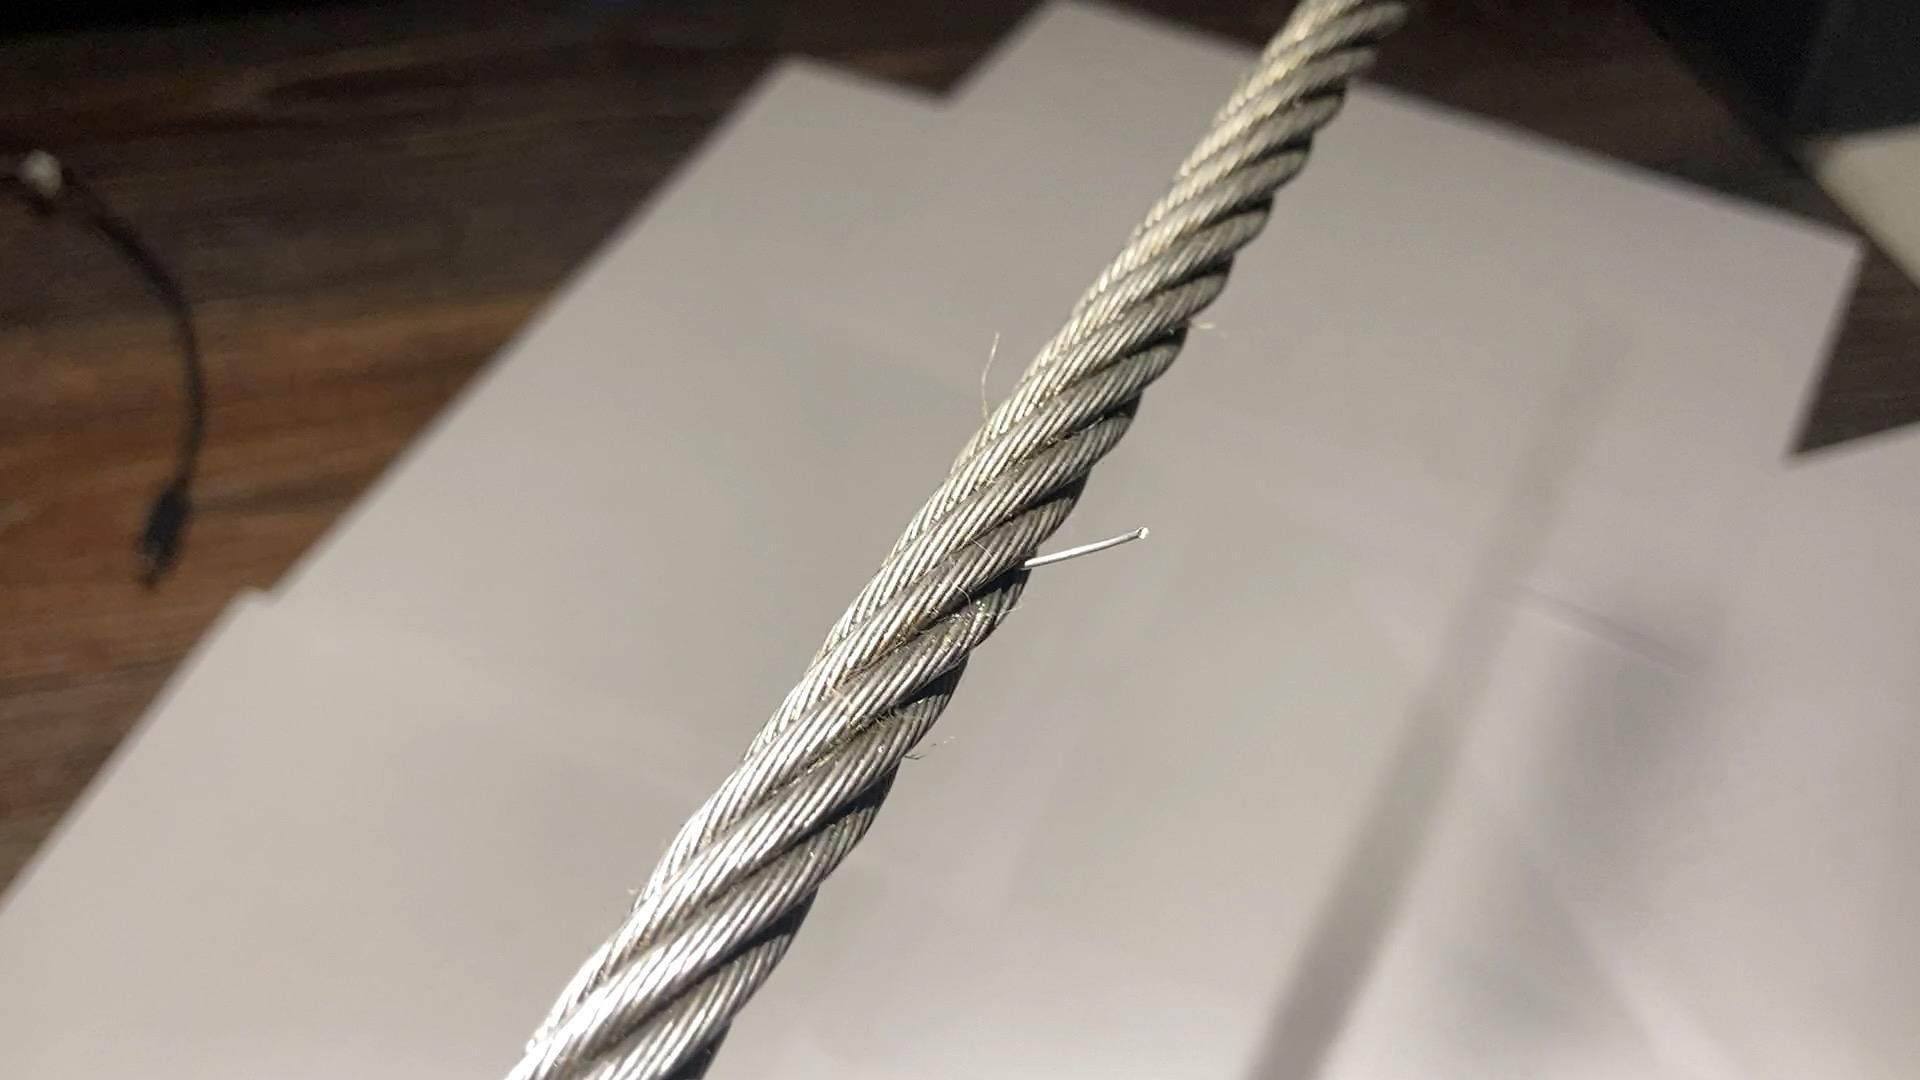break: (1021, 502, 1163, 583)
